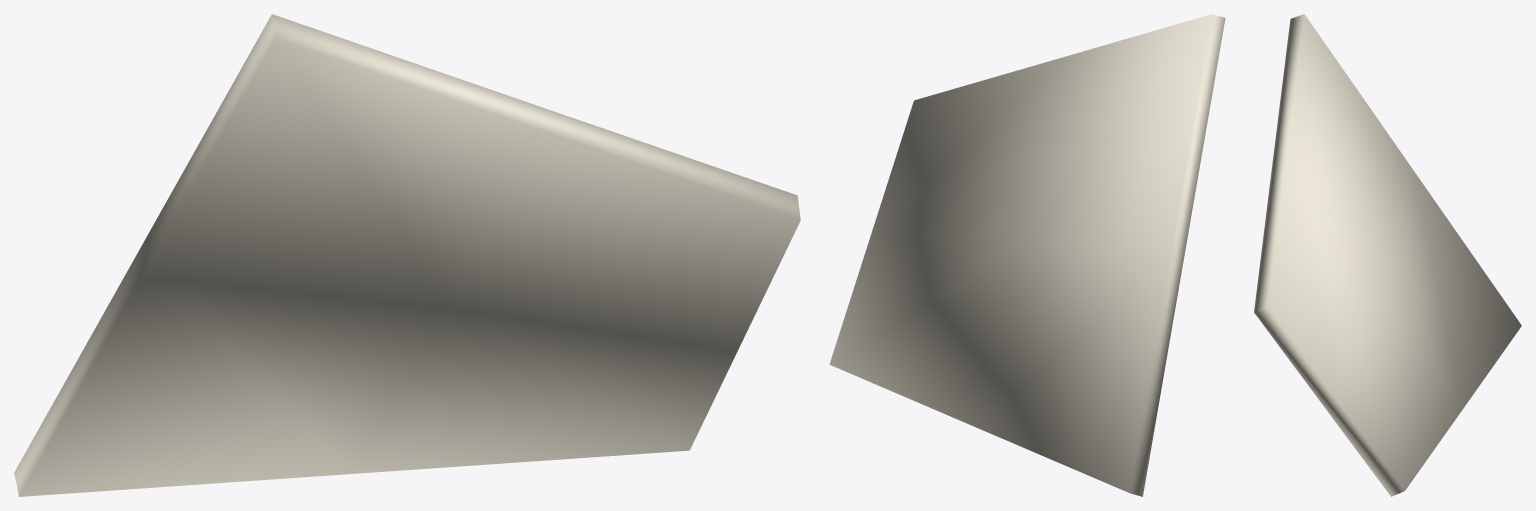
The picture shows the model from 3 angles, left to right: view 1: azimuth 30°, elevation 25°; view 2: azimuth 150°, elevation 25°; view 3: azimuth 270°, elevation 25°; orthographic projection. The views are drawn at different scales.
Parts seen in each view (by area): view 1: ZA_975efd6a59c50dce; view 2: ZA_975efd6a59c50dce; view 3: ZA_975efd6a59c50dce.
Boxes of the visible parts, x1,y1,x2,y2 form: ZA_975efd6a59c50dce: (14, 14, 800, 496); ZA_975efd6a59c50dce: (829, 14, 1225, 496); ZA_975efd6a59c50dce: (1254, 14, 1521, 496).
Bounding box in the file's own units: 0.0109 × 0.0111 × 0.0078.
